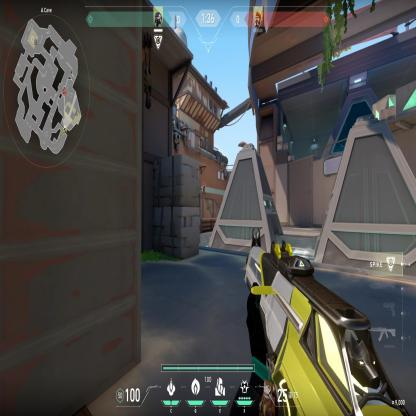enemy: (202, 180, 206, 195)
